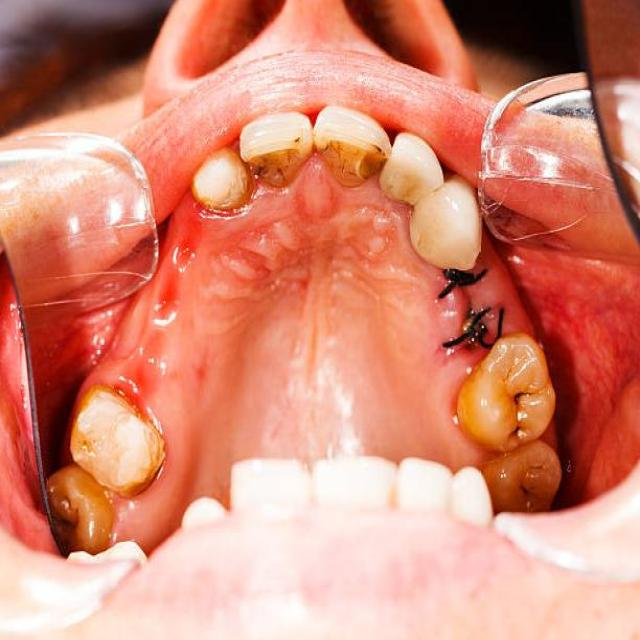caries: (313, 130, 387, 196), (242, 130, 308, 190), (53, 493, 92, 542), (509, 459, 550, 500), (504, 375, 539, 416), (496, 417, 529, 449)
